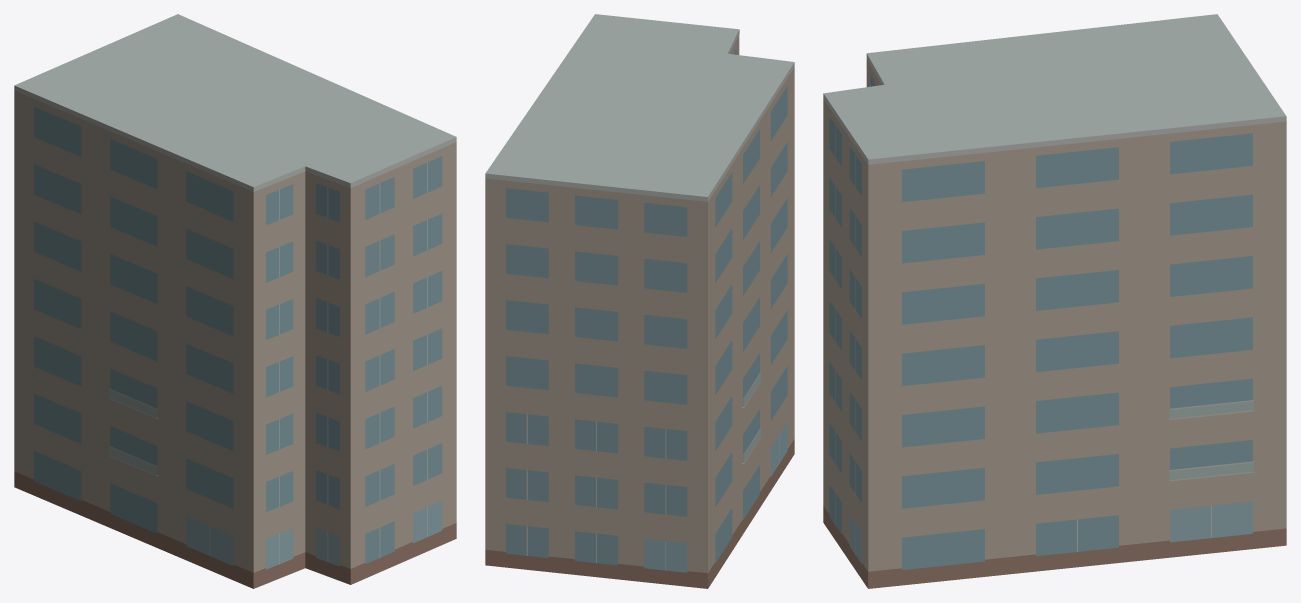
Rendered from survey-upis-32931206.glb.
The picture shows the model from 3 angles, left to right: view 1: azimuth 30°, elevation 25°; view 2: azimuth 150°, elevation 25°; view 3: azimuth 270°, elevation 25°; orthographic projection. The views are drawn at different scales.
Parts seen in each view (by area): view 1: survey-upis-32931206.tmp; view 2: survey-upis-32931206.tmp; view 3: survey-upis-32931206.tmp.
Boxes of the visible parts, x1,y1,x2,y2 form: survey-upis-32931206.tmp: (14,14,456,588); survey-upis-32931206.tmp: (485,14,794,588); survey-upis-32931206.tmp: (823,14,1286,588).
Size of the model in its own units: 14.41 by 19.8 by 19.36.
